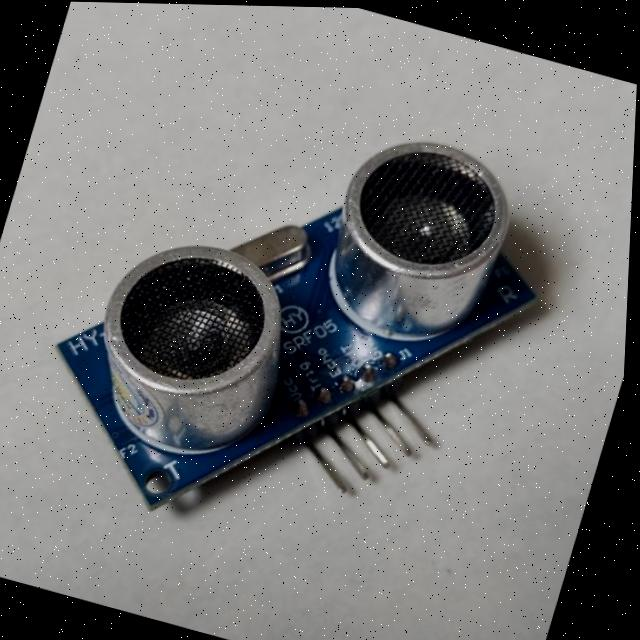Ultrasonic Sensor: (1, 92, 629, 572)
